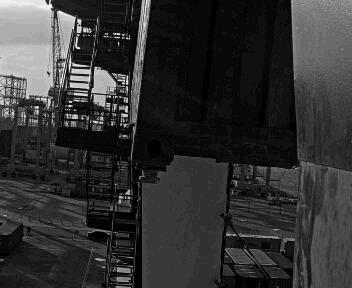twist_lock_1: (147, 157, 188, 193)
